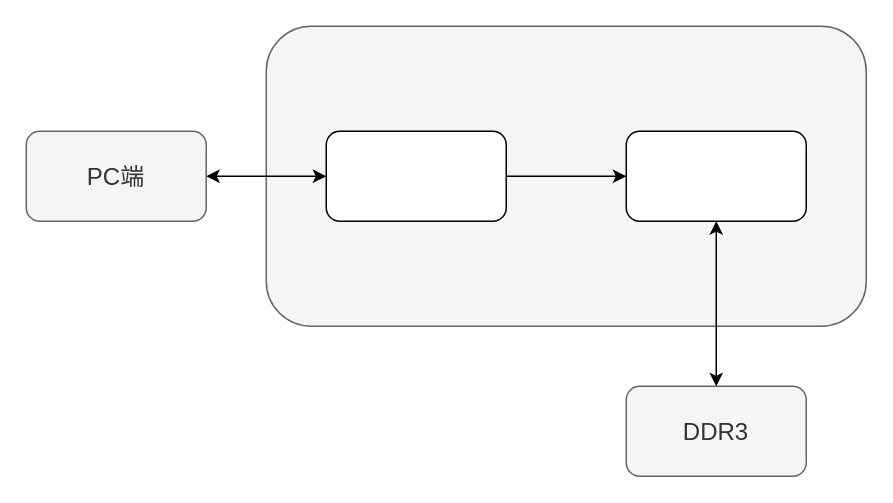
This 893x503 diagram has some shape labels left out. Each missing label, with the centre of its shape:
"DDR3顶层模块" belongs at (715,175).
"以太网顶层模块" belongs at (415,175).
